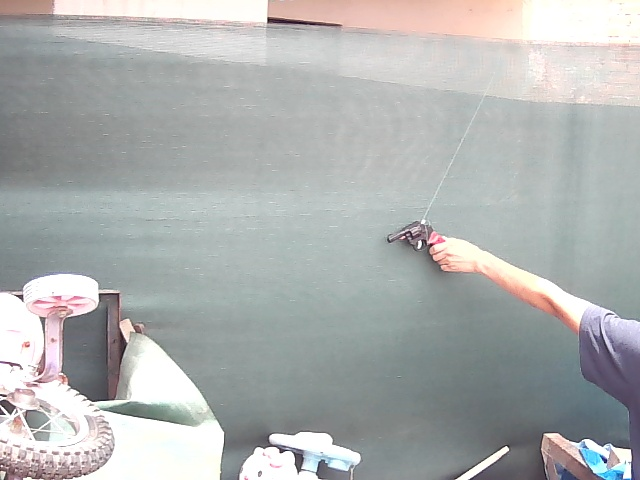pistola: (382, 215, 444, 253)
